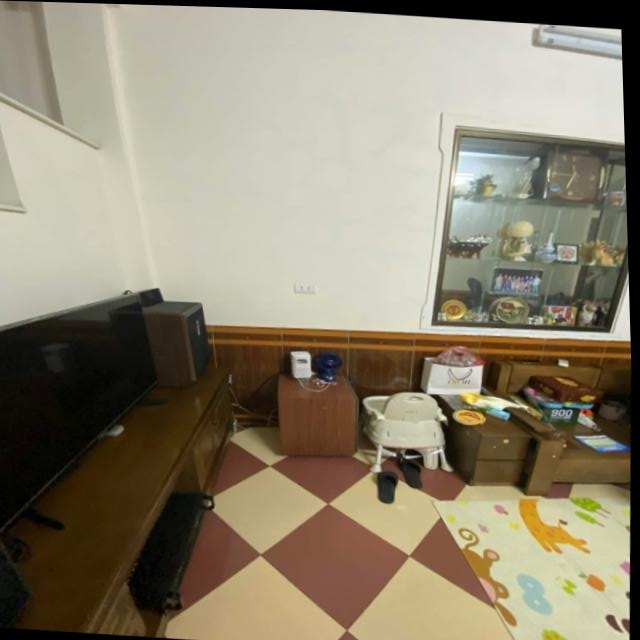outlet: (293, 284, 316, 296)
